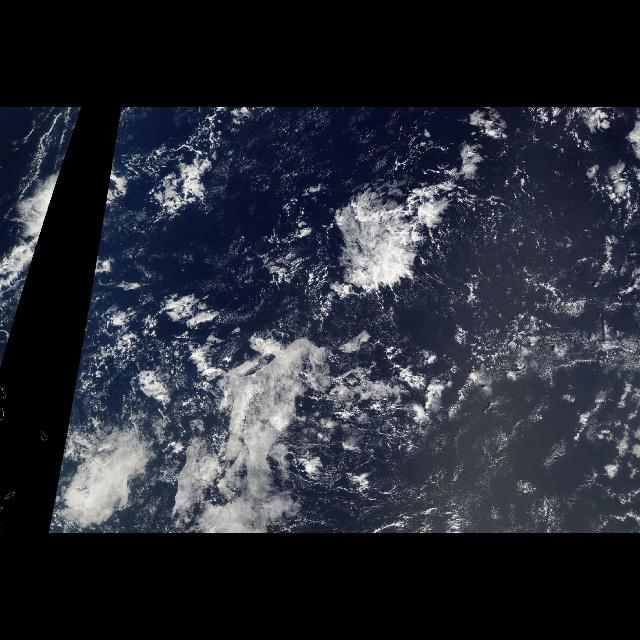Flower: (139, 144, 515, 518)
Sugar: (414, 392, 614, 532)
